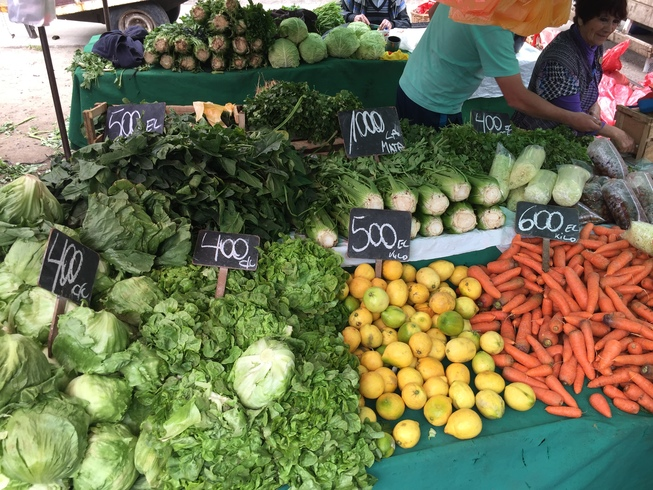precio: (31, 222, 109, 319), (101, 98, 193, 163), (329, 99, 413, 162), (185, 222, 264, 279), (345, 205, 415, 266), (510, 194, 588, 247), (467, 105, 523, 143)
